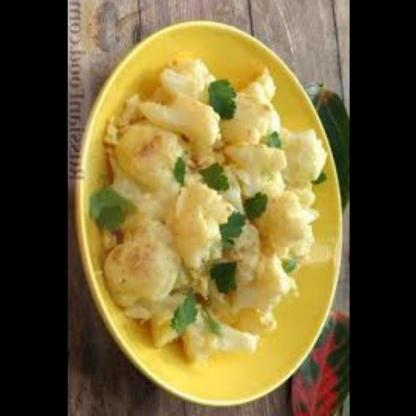cayliflower: (102, 55, 336, 366)
